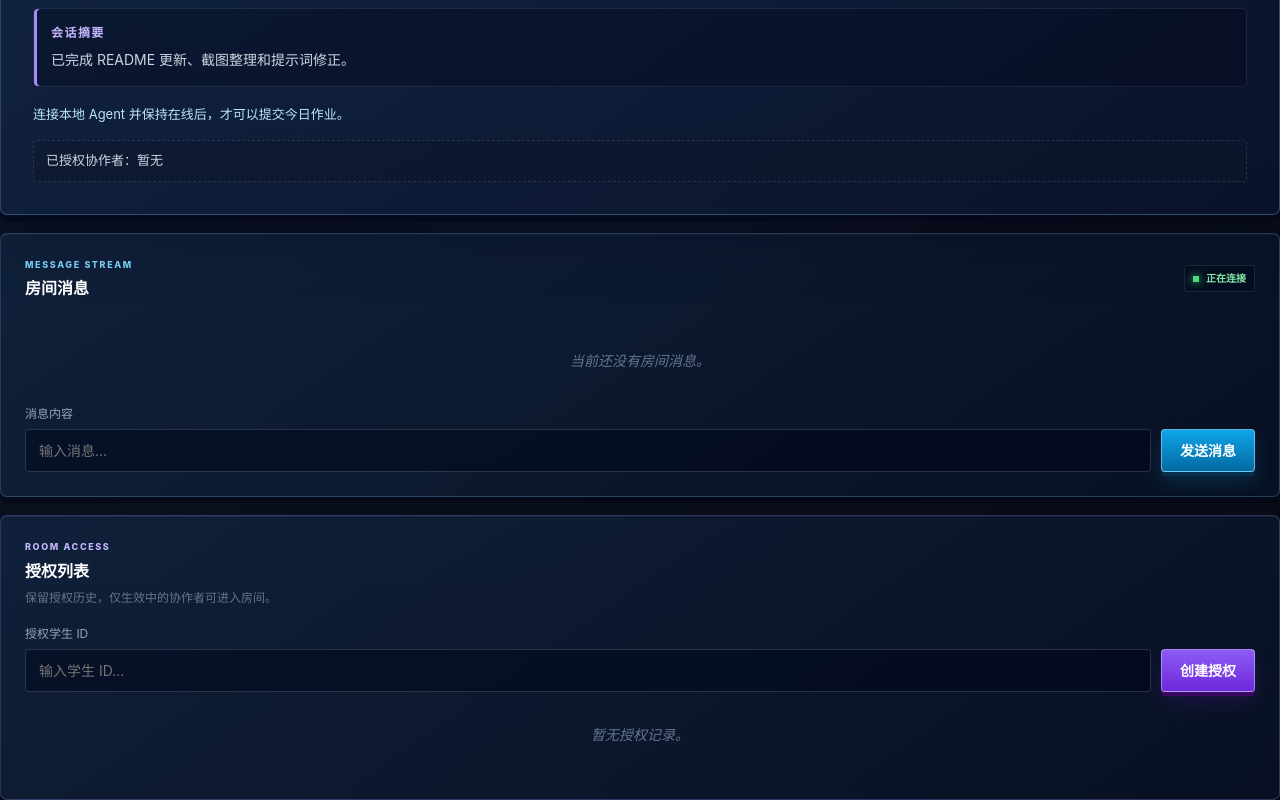
Test: ChatRoom › creates a room access grant from the chat room and appends it to the list
(page scrolled)
Type "student-2" into the field labelled "授权学生 ID" at {"x": 588, "y": 670}, box 25,649 -> 1151,692
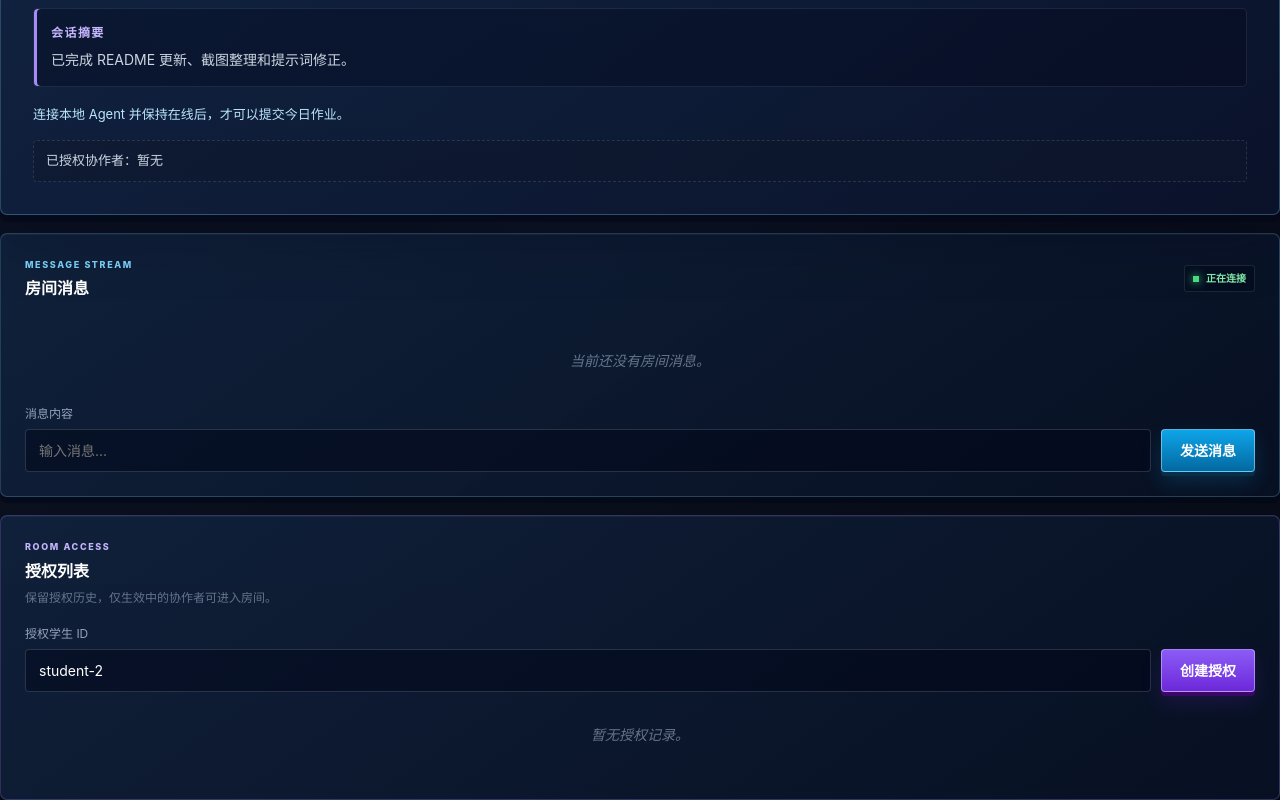
Click the button "创建授权" at {"x": 1208, "y": 670}, box 1161,649 -> 1255,692
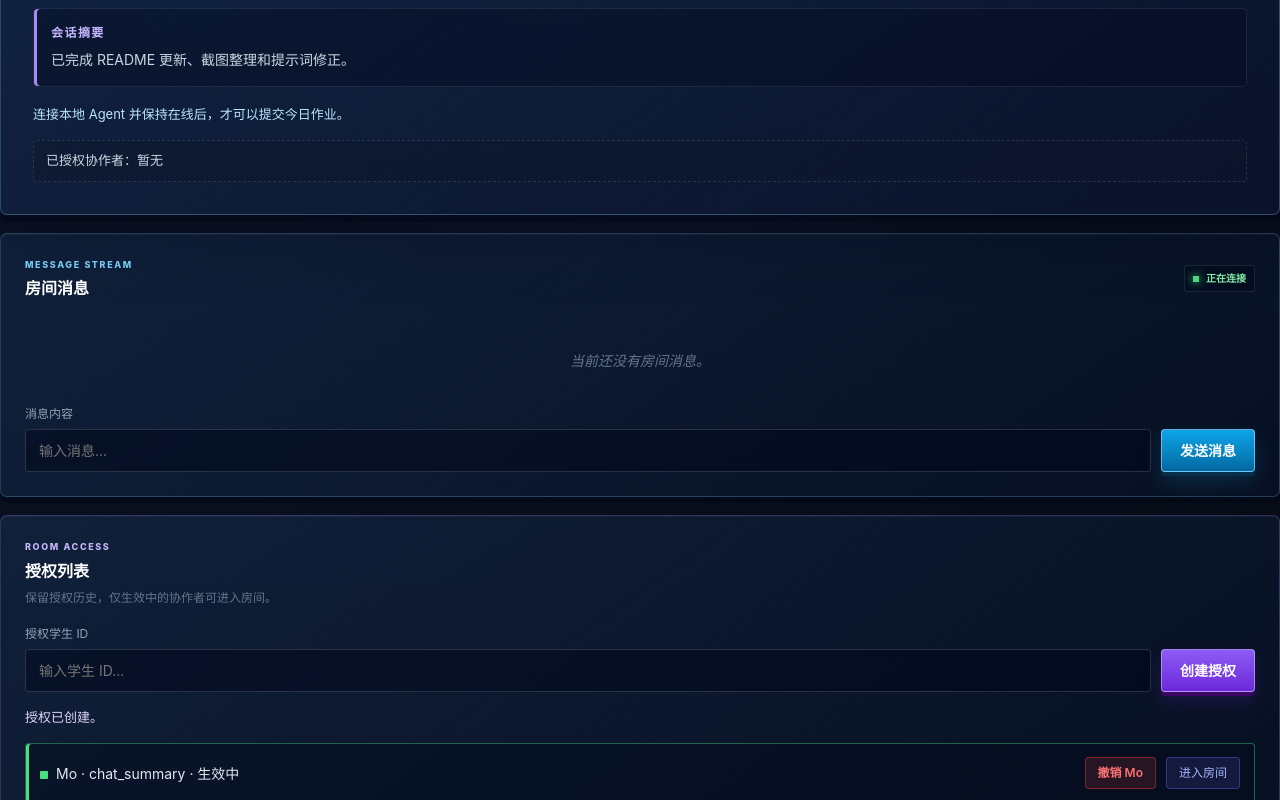
expect the text "Mo · chat_summary · 生效中" is shown: met, box 40,763 -> 239,784
expect the text "授权已创建。" is shown: met, box 25,709 -> 103,725
